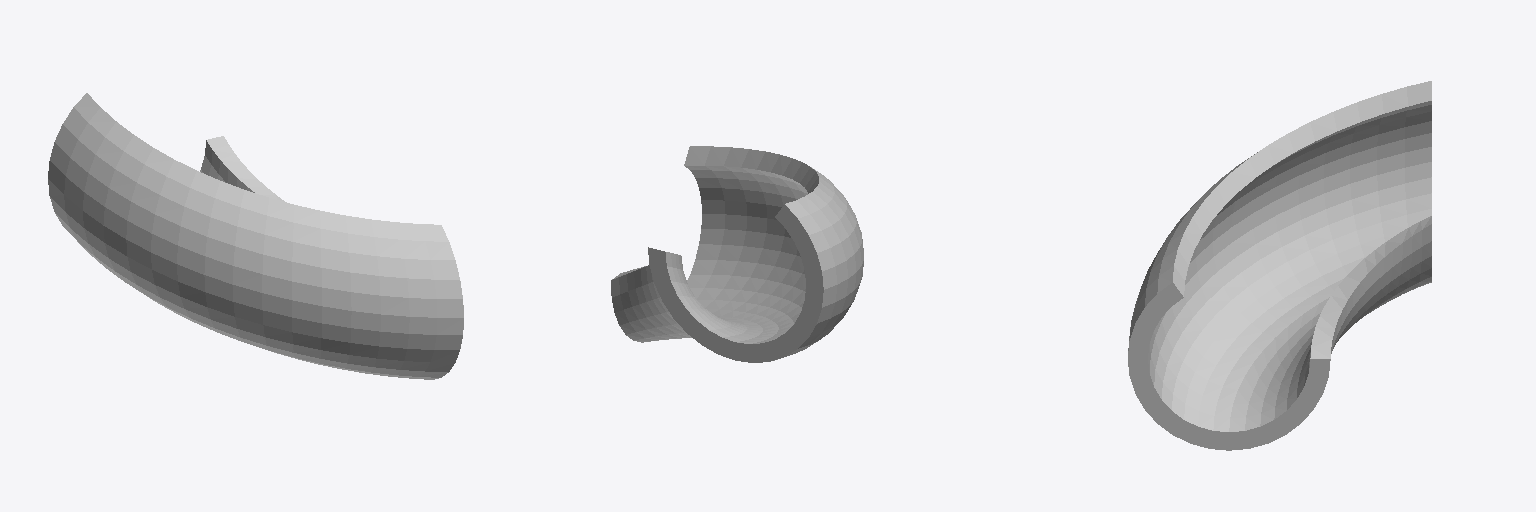
The model's file is turn_left_covered.obj.
3 renders of one model, left to right at view 1: azimuth 30°, elevation 25°; view 2: azimuth 150°, elevation 25°; view 3: azimuth 270°, elevation 25°, orthographic.
Visible parts, largest first — view 1: TurnLeftCovered_Circle.001; view 2: TurnLeftCovered_Circle.001; view 3: TurnLeftCovered_Circle.001.
Part boxes in pixels (left/top/right/bottom): TurnLeftCovered_Circle.001: left=48, top=93, right=463, bottom=379; TurnLeftCovered_Circle.001: left=611, top=146, right=863, bottom=362; TurnLeftCovered_Circle.001: left=1128, top=81, right=1431, bottom=450.
Size of the model in its own units: 3 by 2.83 by 3.